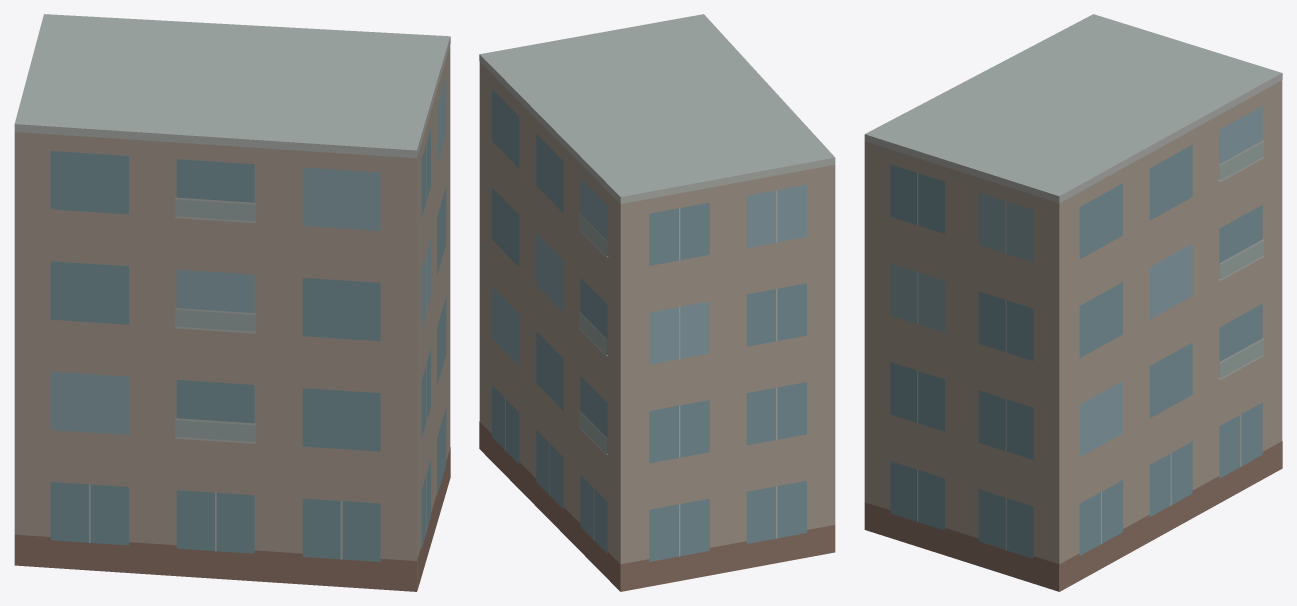
Rendered from survey-upis-32810740.glb.
3 renders of one model, left to right at view 1: azimuth 30°, elevation 25°; view 2: azimuth 150°, elevation 25°; view 3: azimuth 270°, elevation 25°, orthographic. The views are drawn at different scales.
Visible parts, largest first — view 1: survey-upis-32810740.tmp; view 2: survey-upis-32810740.tmp; view 3: survey-upis-32810740.tmp.
Part boxes in pixels (x1,y1,x2,y2): survey-upis-32810740.tmp: [14, 14, 450, 591]; survey-upis-32810740.tmp: [479, 14, 835, 591]; survey-upis-32810740.tmp: [864, 14, 1282, 591].
Size of the model in its own units: 13.57 by 13.72 by 13.14.
